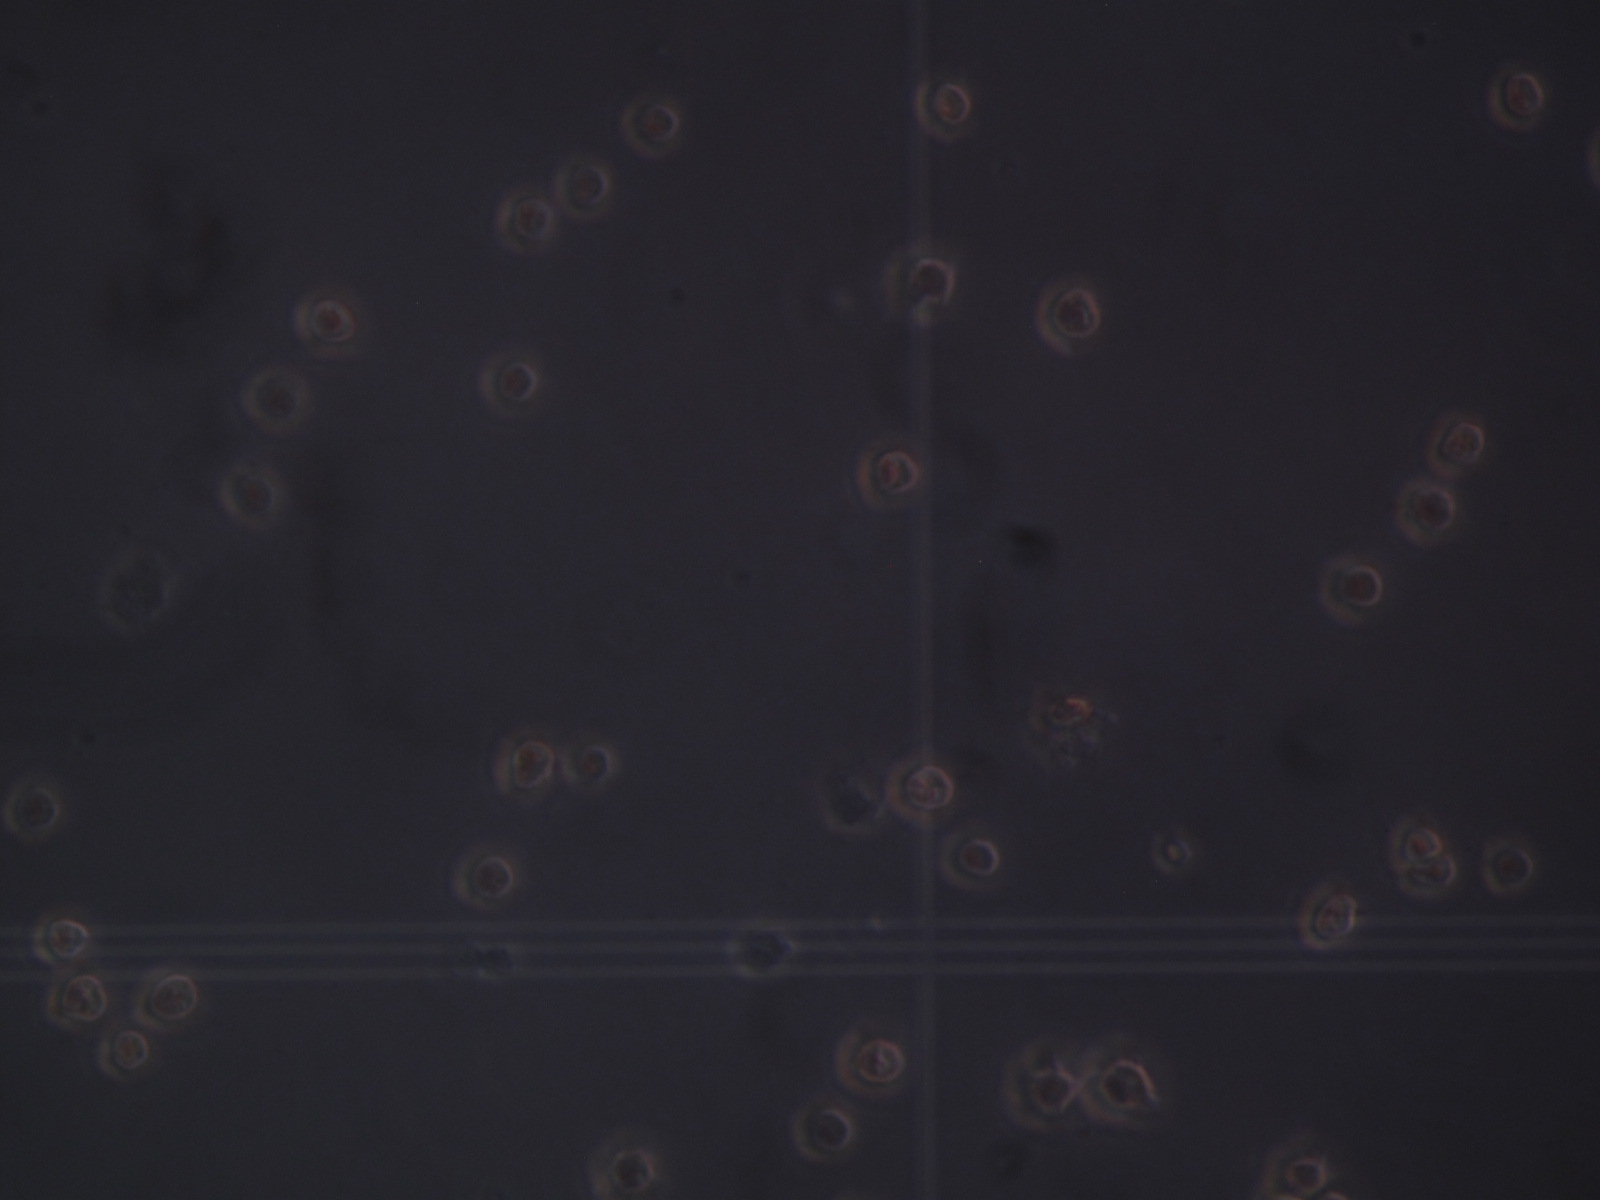hemo: (1002, 1045, 1077, 1134), (1083, 1049, 1158, 1132), (831, 1029, 905, 1099), (586, 1131, 659, 1200), (1320, 551, 1383, 625), (1041, 279, 1100, 357), (1264, 1129, 1327, 1200), (858, 442, 921, 512), (889, 759, 952, 827), (495, 726, 559, 792), (1296, 881, 1356, 952), (135, 966, 197, 1032), (1425, 411, 1487, 476), (247, 368, 307, 434), (1397, 478, 1455, 545), (916, 77, 969, 149), (483, 352, 539, 418), (493, 188, 551, 250), (294, 287, 357, 344), (792, 1105, 852, 1165), (554, 158, 607, 222), (941, 832, 998, 891), (48, 969, 108, 1025), (903, 246, 952, 311), (456, 850, 514, 905), (1489, 67, 1542, 127), (622, 98, 677, 156), (561, 734, 615, 784), (223, 470, 276, 521), (98, 1026, 147, 1079), (33, 916, 89, 962), (9, 785, 59, 836), (1390, 816, 1444, 862), (1396, 856, 1455, 894), (1483, 846, 1532, 891)
